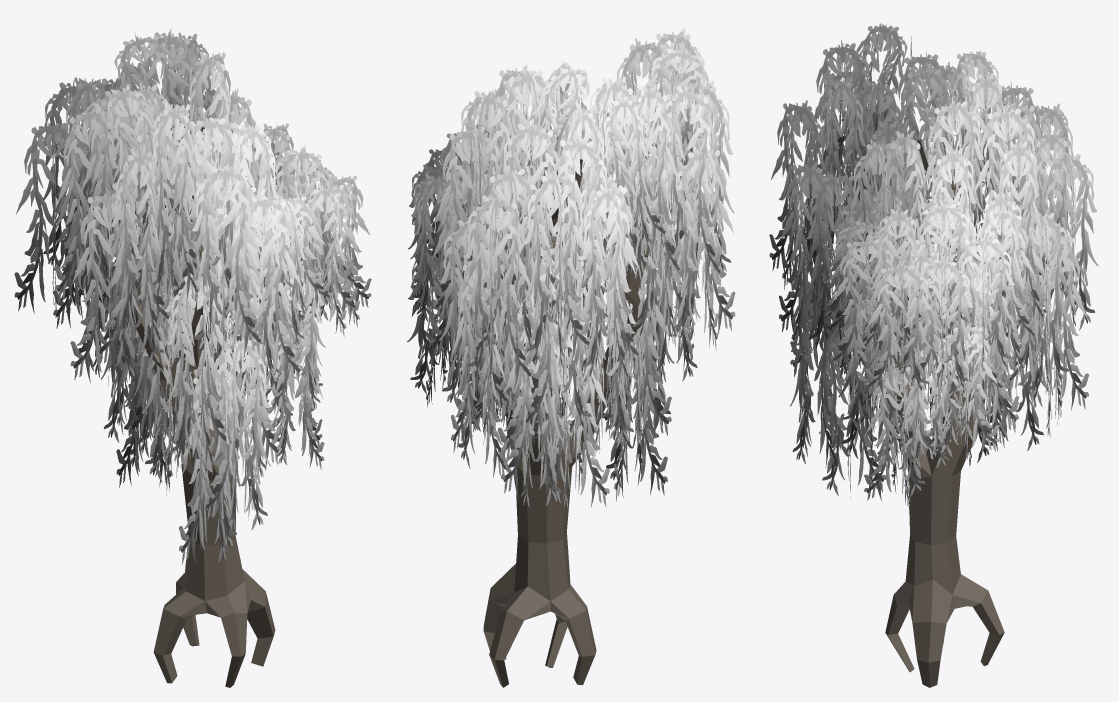
Rendered from SM_Tree_Willow_Medium_01_LOD_01.fbx.
3 renders of one model, left to right at view 1: azimuth 30°, elevation 25°; view 2: azimuth 150°, elevation 25°; view 3: azimuth 270°, elevation 25°, orthographic. The views are drawn at different scales.
Visible parts, largest first — view 1: SM_Tree_Willow_Medium_01_LOD_01; view 2: SM_Tree_Willow_Medium_01_LOD_01; view 3: SM_Tree_Willow_Medium_01_LOD_01.
Part boxes in pixels (bbox=[...]): SM_Tree_Willow_Medium_01_LOD_01: bbox=[14, 29, 371, 687]; SM_Tree_Willow_Medium_01_LOD_01: bbox=[407, 28, 735, 687]; SM_Tree_Willow_Medium_01_LOD_01: bbox=[769, 23, 1098, 687].
Bounding box in the file's own units: 336 × 668 × 336.
